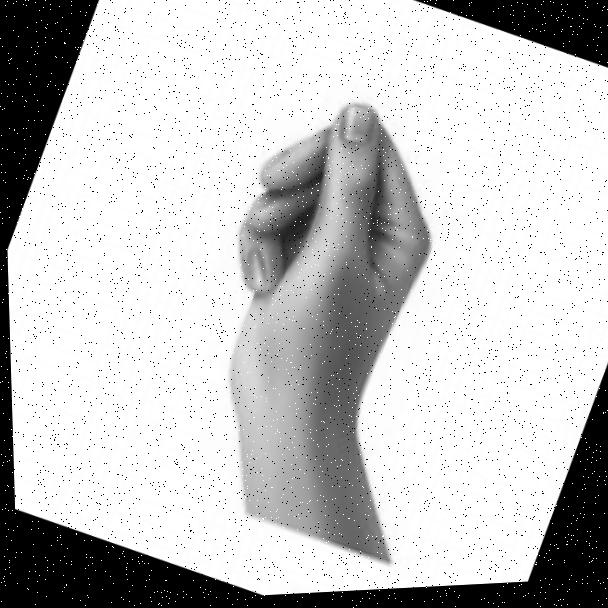five: (150, 56, 496, 497)
